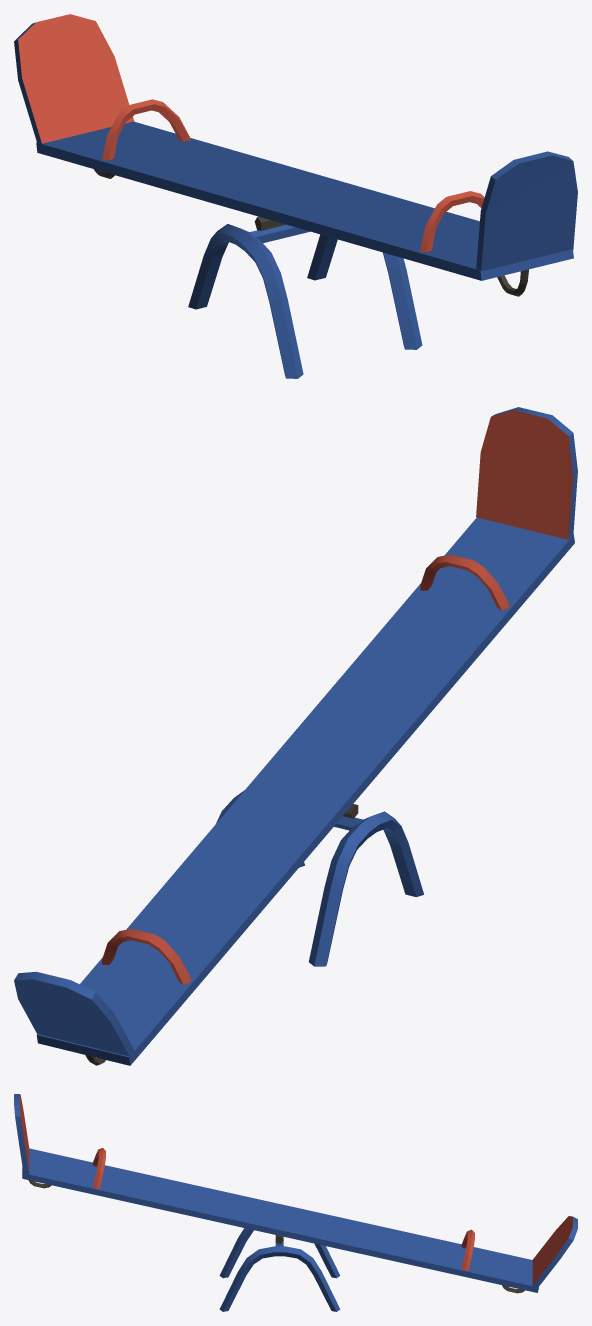
File: SM_Swings_01.fbx
The picture shows the model from 3 angles, top to bottom: view 1: azimuth 30°, elevation 25°; view 2: azimuth 150°, elevation 25°; view 3: azimuth 270°, elevation 25°; orthographic projection. The views are drawn at different scales.
Visible parts, largest first — view 1: SM_Swings_01; view 2: SM_Swings_01; view 3: SM_Swings_01.
Part boxes in pixels (<box>): SM_Swings_01: <box>14,14,577,378</box>; SM_Swings_01: <box>14,407,577,1065</box>; SM_Swings_01: <box>14,1094,577,1311</box>.
Bounding box in the file's own units: 45.42 × 107 × 280.
